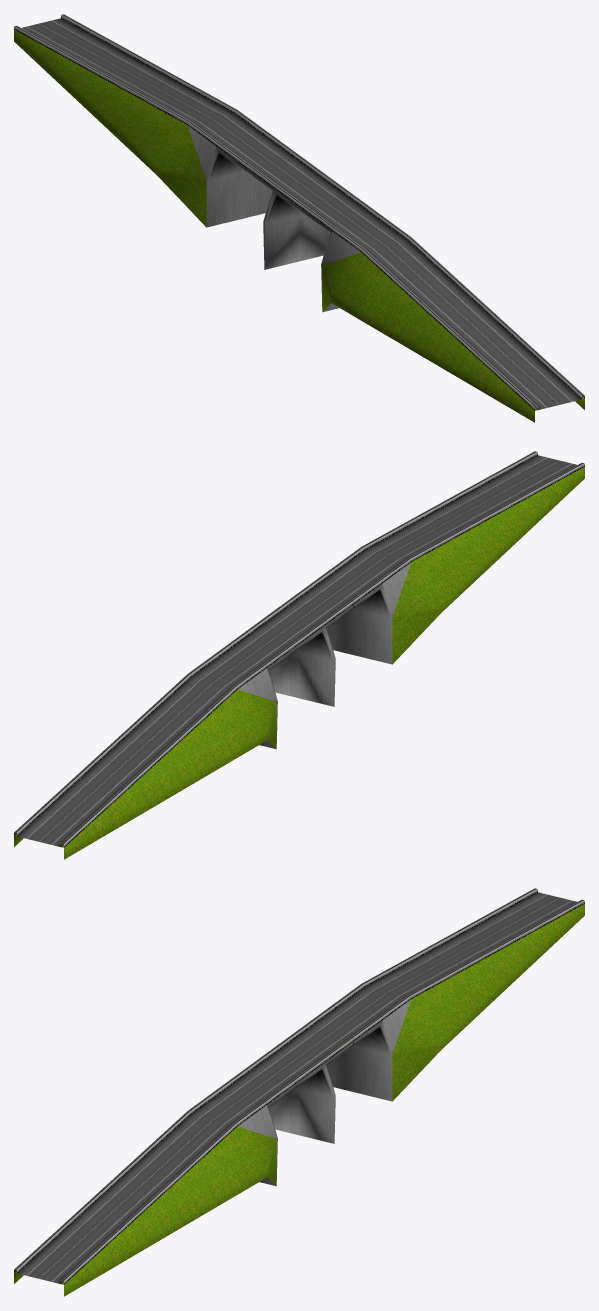
Rendered from brug_weg_1b.fbx.
The picture shows the model from 3 angles, top to bottom: view 1: azimuth 30°, elevation 25°; view 2: azimuth 150°, elevation 25°; view 3: azimuth 330°, elevation 25°; orthographic projection.
Parts seen in each view (by area): view 1: brug_weg_1b; view 2: brug_weg_1b; view 3: brug_weg_1b.
Part boxes in pixels (x1=…): brug_weg_1b: x1=14, y1=14, x2=584, y2=422; brug_weg_1b: x1=14, y1=451, x2=584, y2=859; brug_weg_1b: x1=14, y1=888, x2=584, y2=1296.
Size of the model in its own units: 2200 by 1563 by 18001.
